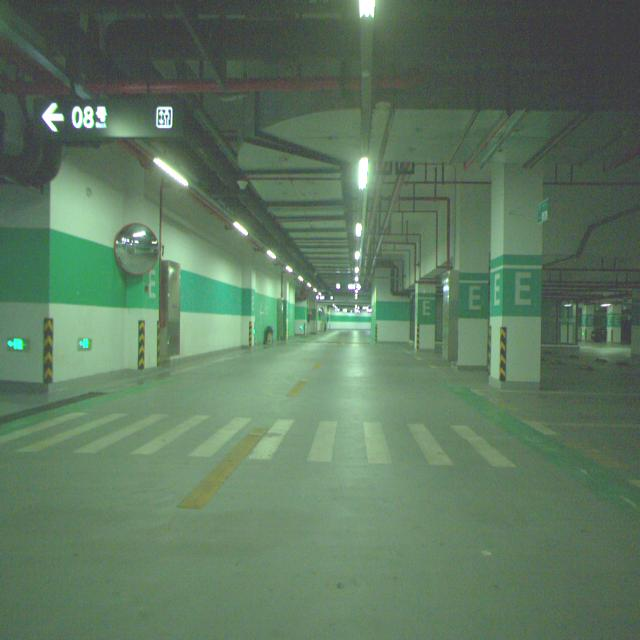pillar: (488, 162, 542, 387)
wall: (125, 158, 161, 370), (242, 260, 256, 347)
